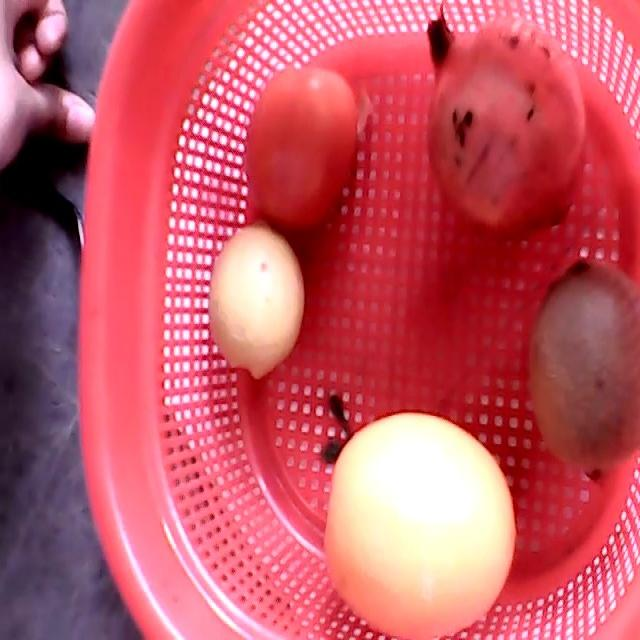kiwi: (532, 255, 639, 479)
lemon: (207, 227, 305, 381)
orange: (324, 418, 515, 636)
pomegranate: (424, 11, 587, 236)
tomato: (242, 65, 358, 229)
